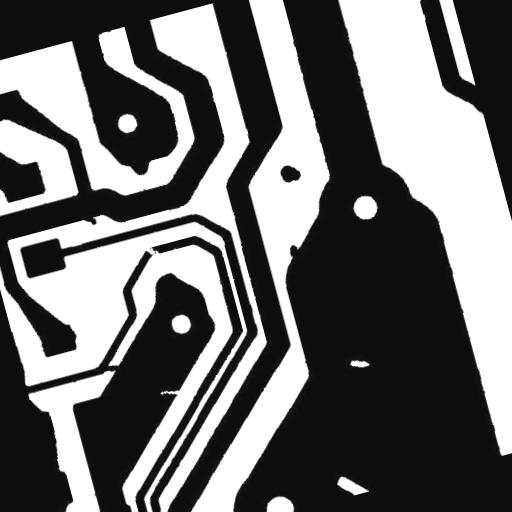copper: (268, 152, 310, 192)
mousebite: (150, 377, 190, 407)
open: (134, 235, 168, 266)
pin-hole: (340, 346, 378, 378)
short: (88, 352, 128, 382)
spur: (72, 202, 105, 236), (278, 234, 308, 268)
